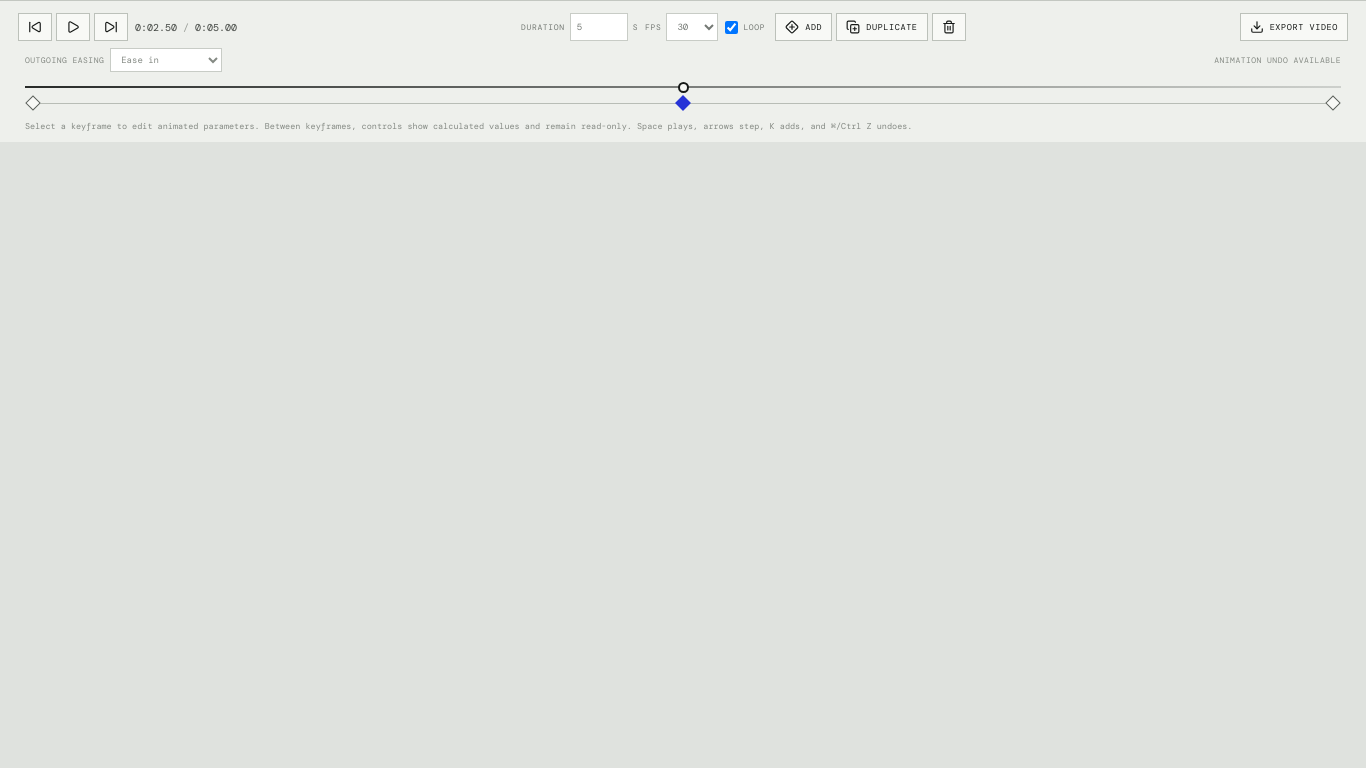
animation workspace controls › dismisses with Cancel or Escape, restores focus, and suppresses timeline shortcuts
This screenshot has width=1366, height=768.
Click the button "Export video" at (1294, 27), box [1240,13,1348,41]
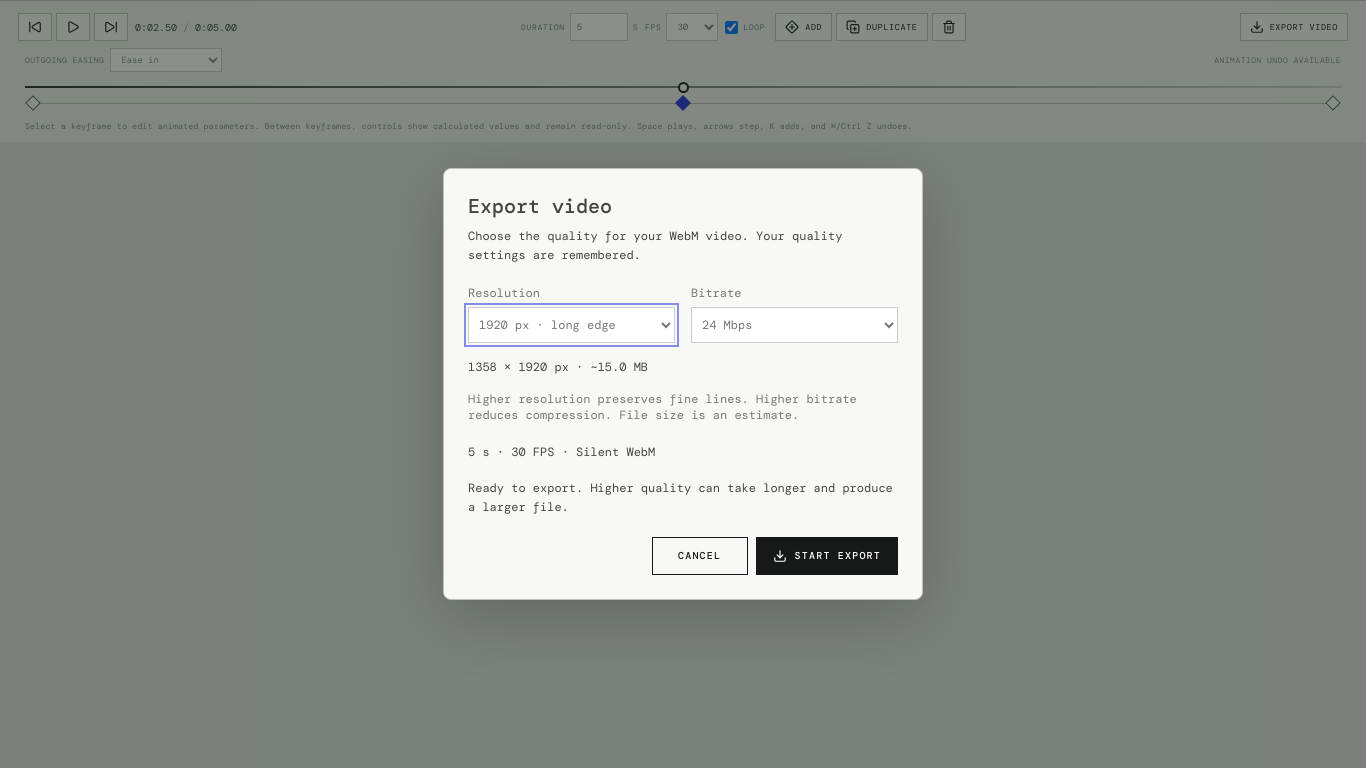
Press Space
Press k
Click the button "Cancel" at (700, 556), box [652,537,748,575]
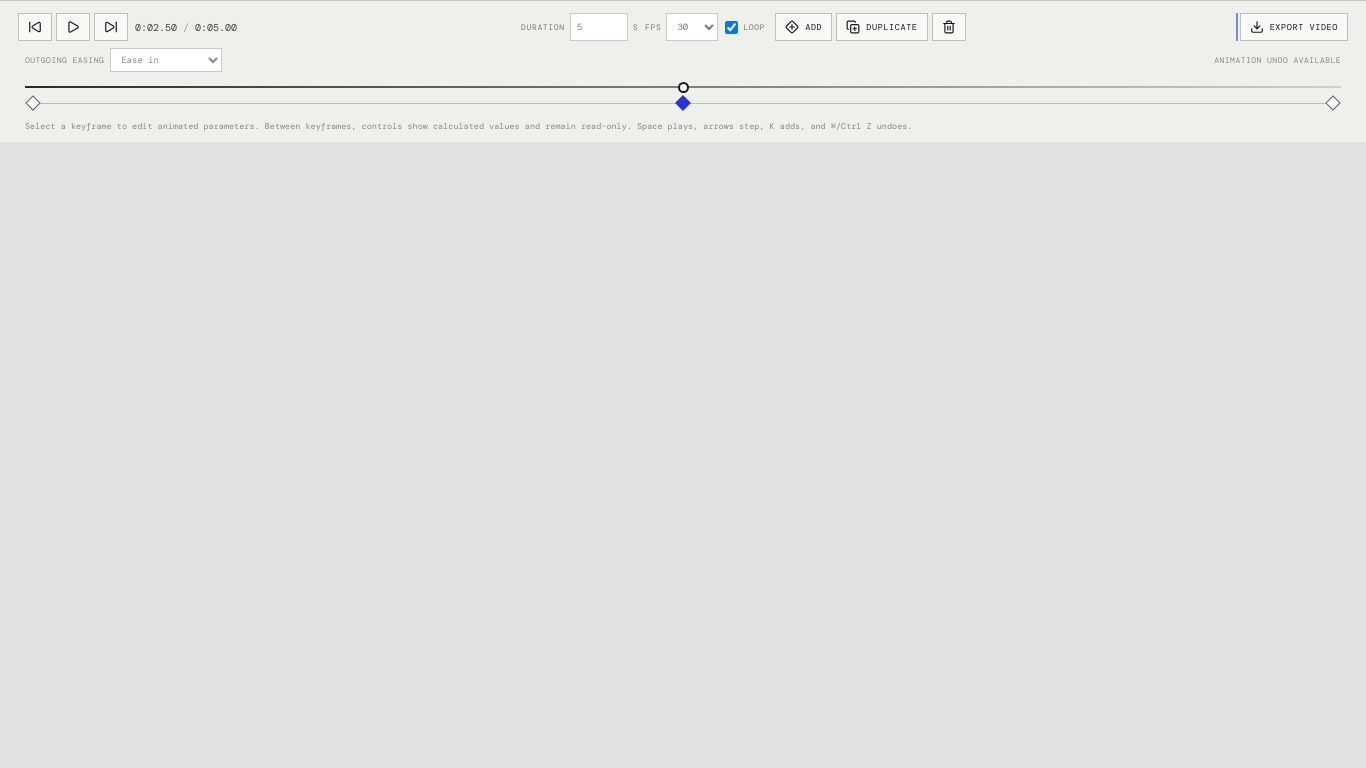
Result: the dialog is gone
Click the button "Export video" at (1294, 27), box [1240,13,1348,41]
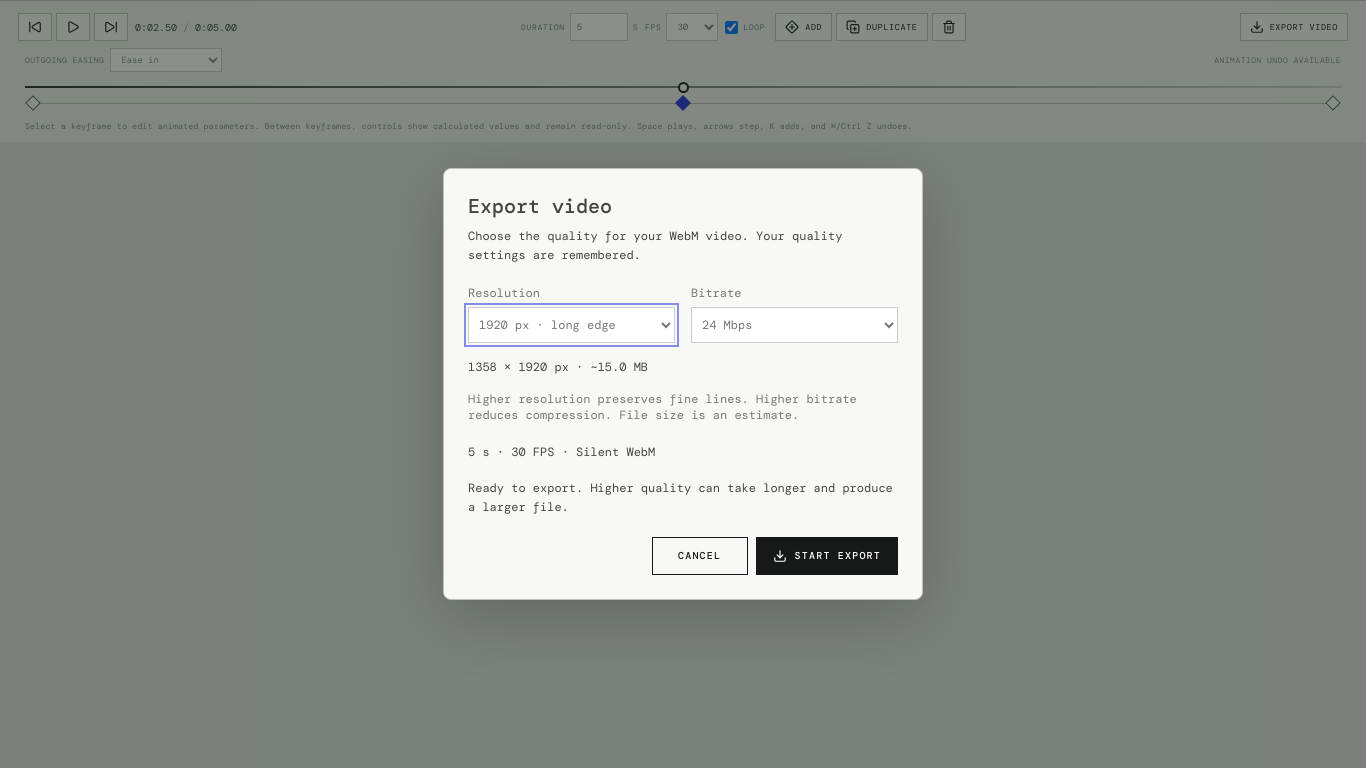
Press Space
Press k
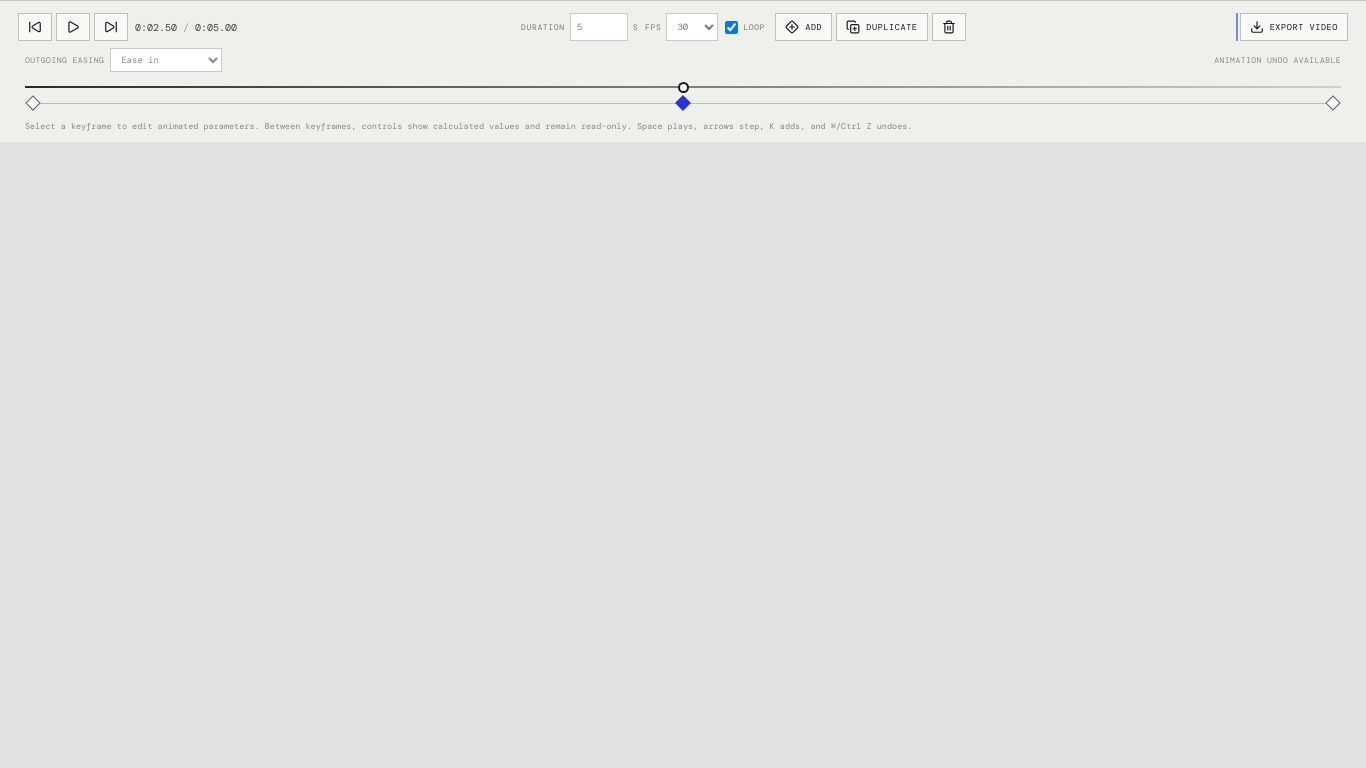
Result: the dialog is gone
